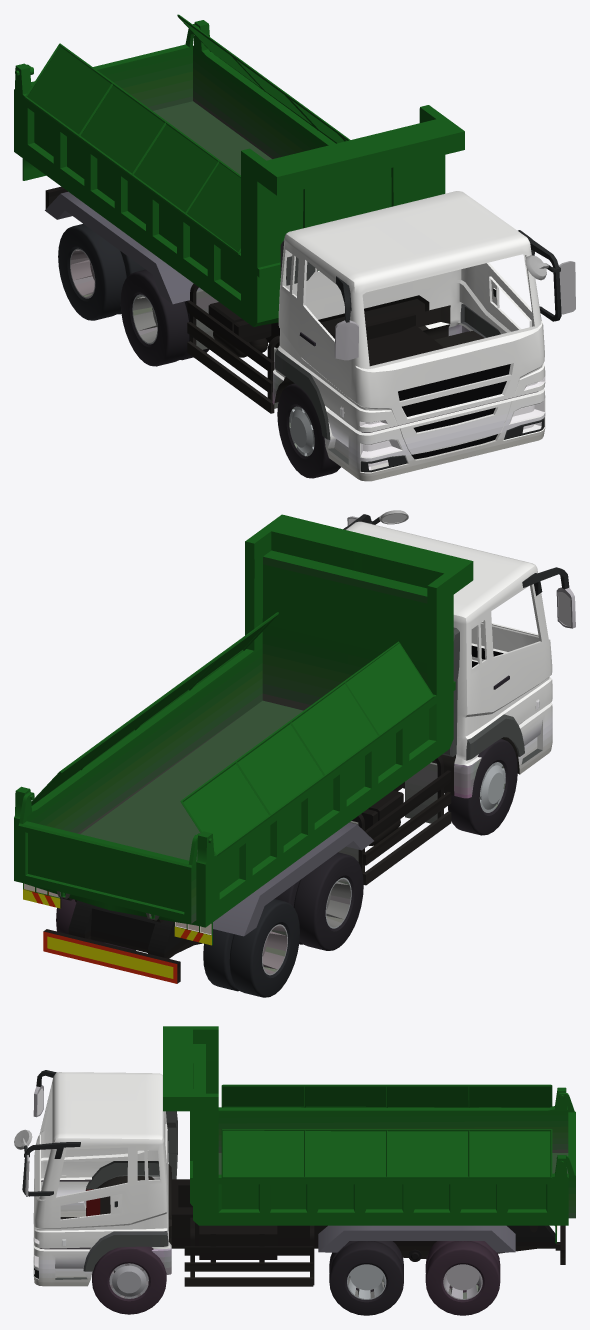
The model's file is dump.glb.
3 renders of one model, top to bottom at view 1: azimuth 30°, elevation 25°; view 2: azimuth 150°, elevation 25°; view 3: azimuth 270°, elevation 25°, orthographic. The views are drawn at different scales.
Visible parts, largest first — view 1: Object_5; view 2: Object_5; view 3: Object_5.
Boxes of the visible parts, x1,y1,x2,y2 form: Object_5: [14, 14, 575, 481]; Object_5: [14, 510, 575, 997]; Object_5: [14, 1026, 575, 1315].
Bounding box in the file's own units: 3.13 × 3.66 × 8.54.
Materials: 2 (2 with a texture image).
